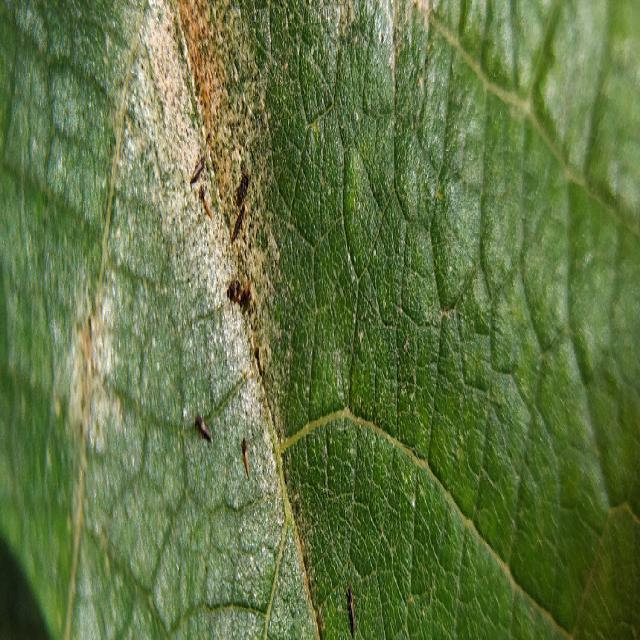Thrip-Adult-: (343, 577, 362, 638), (196, 184, 214, 227), (194, 406, 212, 447), (189, 146, 206, 188), (240, 432, 252, 491), (231, 201, 247, 245)
